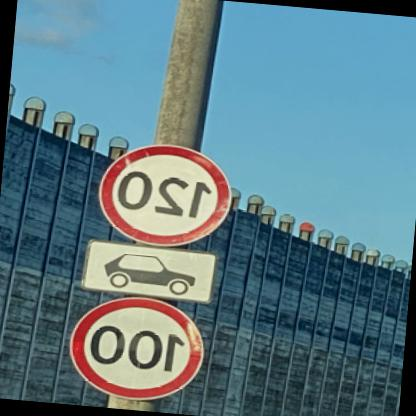speedlimit: (66, 292, 209, 404), (98, 138, 238, 250)
